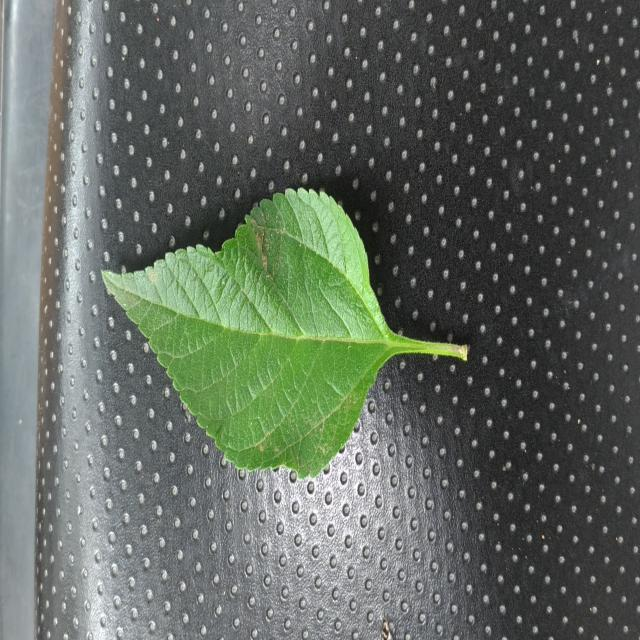Lantana: (102, 189, 468, 478)
